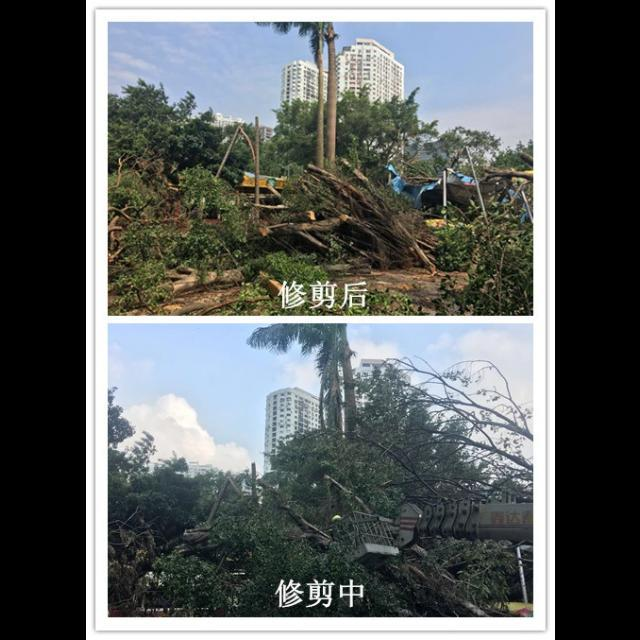fallen_tree: (172, 468, 492, 614), (334, 349, 536, 503), (210, 167, 432, 276)
